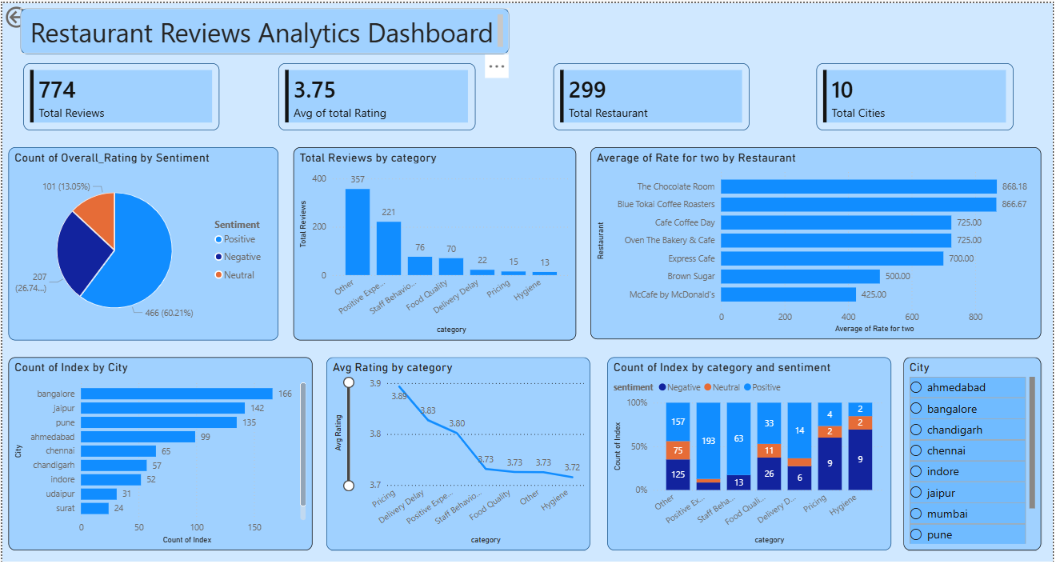

The page's visual inventory and layout, read from the dashboard file:
{"tool":"powerbi","page":{"name":"Dashboard for Restaurant dataset ","canvas":[1500,800],"ordinal":0},"visuals":[{"type":"cardVisual","fields":{"Data":["CountNonNull(restaurant_reviews_final1.Index)"]},"box":[30,85.7,280,95.7],"z":0},{"type":"cardVisual","fields":{"Data":["Avg(restaurant_reviews_final1.Overall_Rating)"]},"box":[394.3,85.7,281.4,95.7],"z":1000},{"type":"cardVisual","fields":{"Data":["Count(restaurant_reviews_final1.Name)"]},"box":[787.1,85.7,280,95.7],"z":2000},{"type":"cardVisual","fields":{"Data":["Count(restaurant_reviews_final1.City)"]},"box":[1162.9,85.7,281.4,95.7],"z":3000},{"type":"pieChart","fields":{"Category":["restaurant_reviews_final1.sentiment"],"Y":["CountNonNull(restaurant_reviews_final1.Overall_Rating)"]},"box":[8.6,205.7,385.7,275.7],"z":4000},{"type":"columnChart","fields":{"Category":["restaurant_reviews_final1.category"],"Y":["restaurant_reviews_final1.Total Reviews"]},"box":[415.7,205.7,404.3,275.7],"z":5000},{"type":"barChart","fields":{"Category":["restaurant_reviews_final1.City"],"Y":["Count(restaurant_reviews_final1.Index)"]},"box":[8.6,505.7,434.3,275.7],"z":6000},{"type":"actionButton","box":[0,0,100,40],"z":7000},{"type":"barChart","fields":{"Category":["restaurant_reviews_final1.Name"],"Y":["Avg(restaurant_reviews_final1.Rate for two)"]},"box":[840,205.7,644.3,274.3],"z":8000},{"type":"hundredPercentStackedColumnChart","fields":{"Category":["restaurant_reviews_final1.category"],"Series":["restaurant_reviews_final1.sentiment"],"Y":["Count(restaurant_reviews_final1.Index)"]},"box":[864.3,505.7,405.7,275.7],"z":9000},{"type":"lineChart","fields":{"Y":["restaurant_reviews_final1.Avg Rating"],"Category":["restaurant_reviews_final1.category"]},"box":[462.9,505.7,377.1,275.7],"z":10000},{"type":"textbox","box":[25.7,7.1,698.6,65.7],"z":11000},{"type":"listSlicer","fields":{"Values":["restaurant_reviews_final1.City"]},"box":[1287.1,505.7,197.1,275.7],"z":12000}]}

Visuals, with their boxes in screenshot pixels (x1, y1, x2, y2), scaled from the page's 1500x800 canvas onto the 1055x562 screenshot:
cardVisual - CountNonNull(restaurant_reviews_final1.Index): (21, 60, 218, 127)
cardVisual - Avg(restaurant_reviews_final1.Overall_Rating): (277, 60, 475, 127)
cardVisual - Count(restaurant_reviews_final1.Name): (554, 60, 751, 127)
cardVisual - Count(restaurant_reviews_final1.City): (818, 60, 1016, 127)
pieChart - restaurant_reviews_final1.sentiment x CountNonNull(restaurant_reviews_final1.Overall_Rating): (6, 145, 277, 338)
columnChart - restaurant_reviews_final1.category x restaurant_reviews_final1.Total Reviews: (292, 145, 577, 338)
barChart - restaurant_reviews_final1.City x Count(restaurant_reviews_final1.Index): (6, 355, 312, 549)
actionButton: (0, 0, 70, 28)
barChart - restaurant_reviews_final1.Name x Avg(restaurant_reviews_final1.Rate for two): (591, 145, 1044, 337)
hundredPercentStackedColumnChart - restaurant_reviews_final1.category x restaurant_reviews_final1.sentiment: (608, 355, 893, 549)
lineChart - restaurant_reviews_final1.Avg Rating x restaurant_reviews_final1.category: (326, 355, 591, 549)
textbox: (18, 5, 509, 51)
listSlicer - restaurant_reviews_final1.City: (905, 355, 1044, 549)
